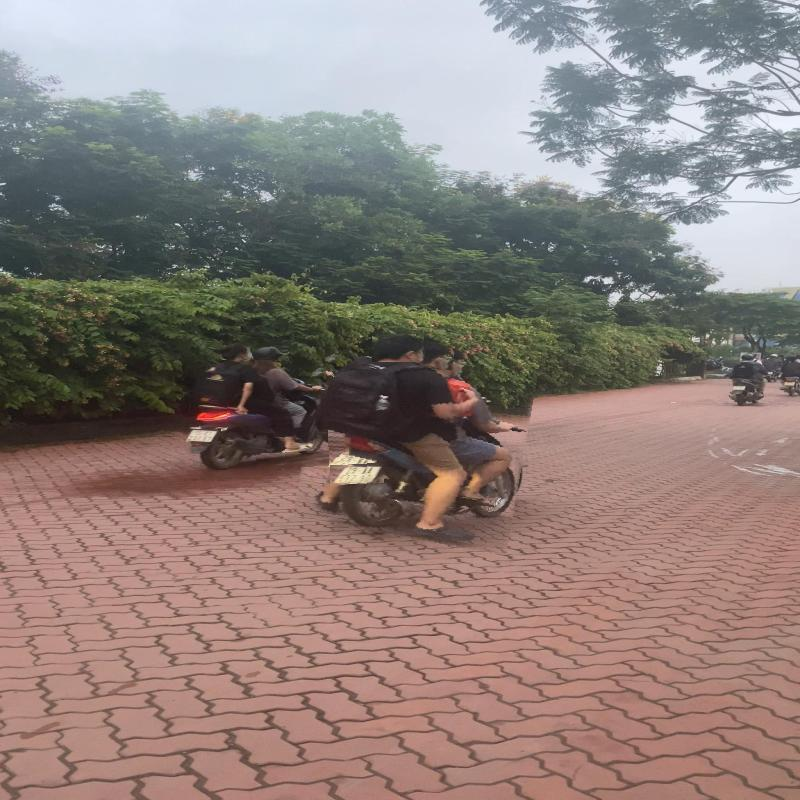helmet: (252, 345, 288, 360)
licenseplate: (330, 464, 384, 485), (183, 429, 221, 444)
motorcyclist: (300, 323, 533, 546), (182, 340, 328, 469)
nohelmet: (372, 334, 424, 362), (420, 342, 455, 370), (217, 342, 252, 360)
